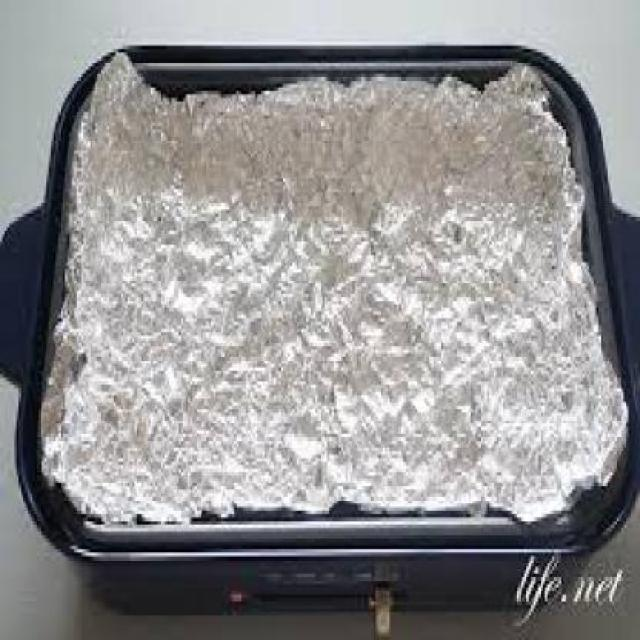METAL: (37, 45, 626, 518)
